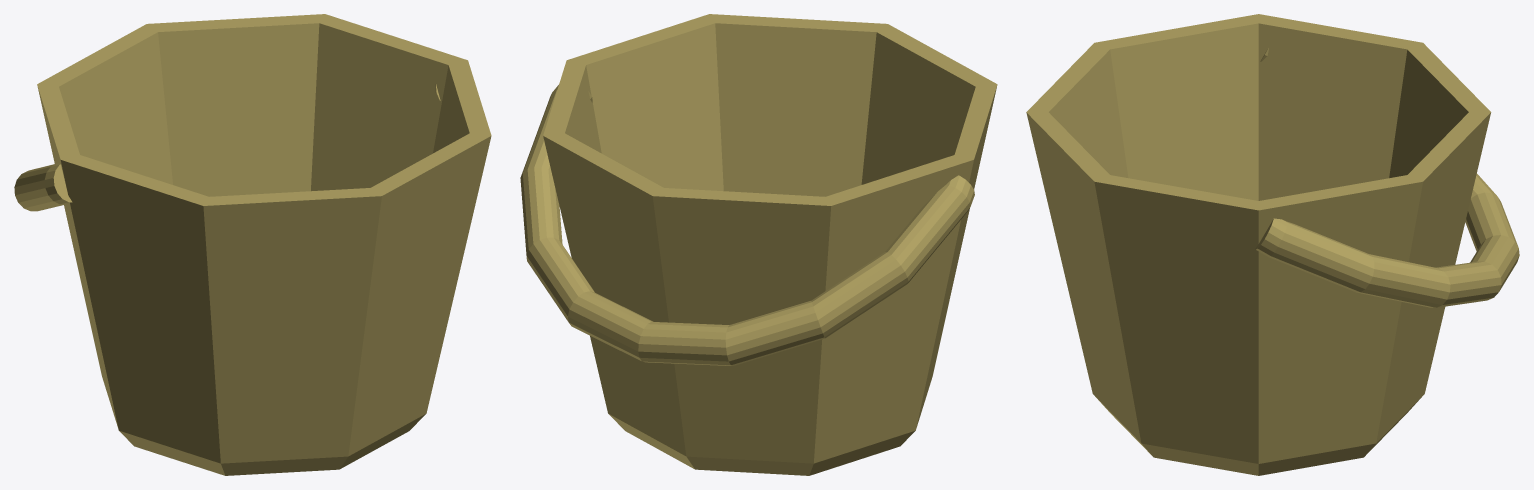
Rendered from bucket01.fbx.
3 renders of one model, left to right at view 1: azimuth 30°, elevation 25°; view 2: azimuth 150°, elevation 25°; view 3: azimuth 270°, elevation 25°, orthographic.
Parts seen in each view (by area): view 1: Torus; view 2: Torus; view 3: Torus.
Part boxes in pixels (bbox=[...]): Torus: bbox=[14, 14, 491, 475]; Torus: bbox=[520, 14, 997, 475]; Torus: bbox=[1026, 14, 1519, 475].
Bounding box in the file's own units: 0.4172 × 0.2902 × 0.431.
